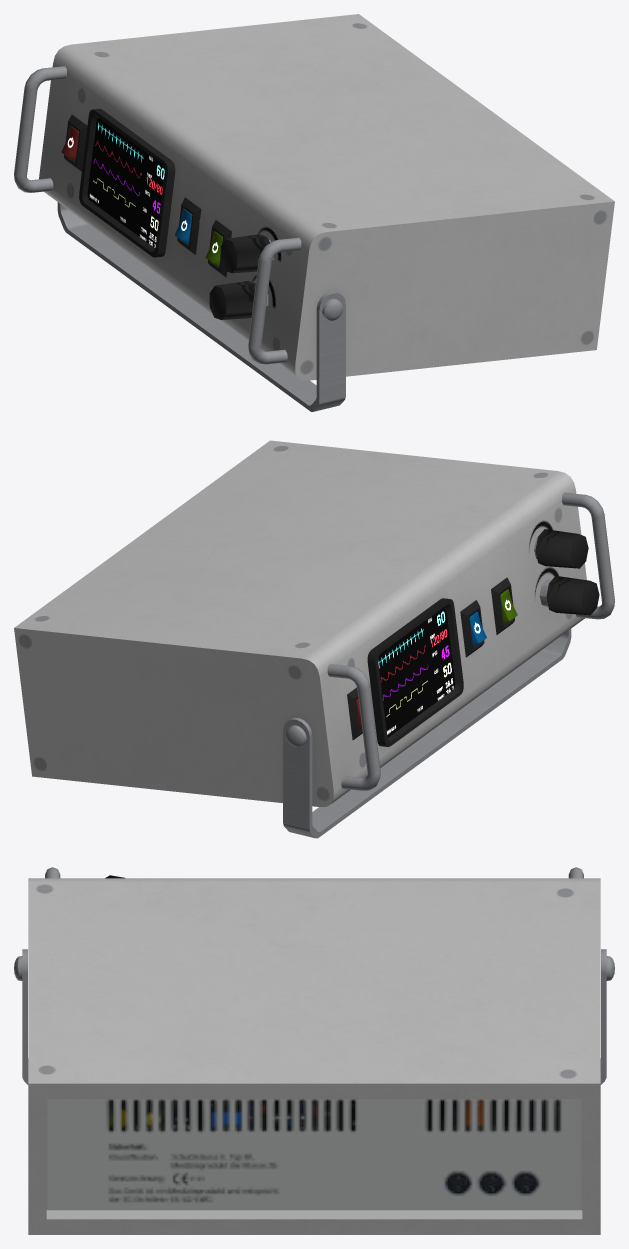
The model's file is EquipmentA.fbx.
The picture shows the model from 3 angles, top to bottom: view 1: azimuth 30°, elevation 25°; view 2: azimuth 150°, elevation 25°; view 3: azimuth 270°, elevation 25°; orthographic projection. The views are drawn at different scales.
Visible parts, largest first — view 1: EquipmentA; view 2: EquipmentA; view 3: EquipmentA.
Boxes of the visible parts, bbox=[...] form: EquipmentA: bbox=[14, 14, 614, 411]; EquipmentA: bbox=[14, 440, 614, 838]; EquipmentA: bbox=[14, 867, 614, 1234].
Bounding box in the file's own units: 24.66 × 12.01 × 31.84.
